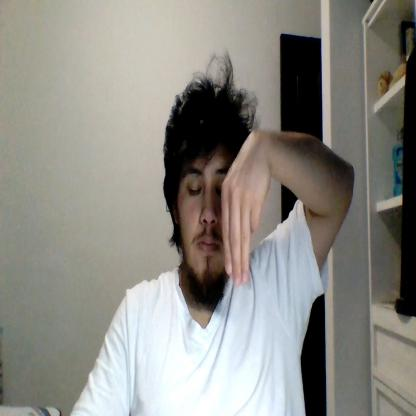M: (221, 129, 270, 285)
